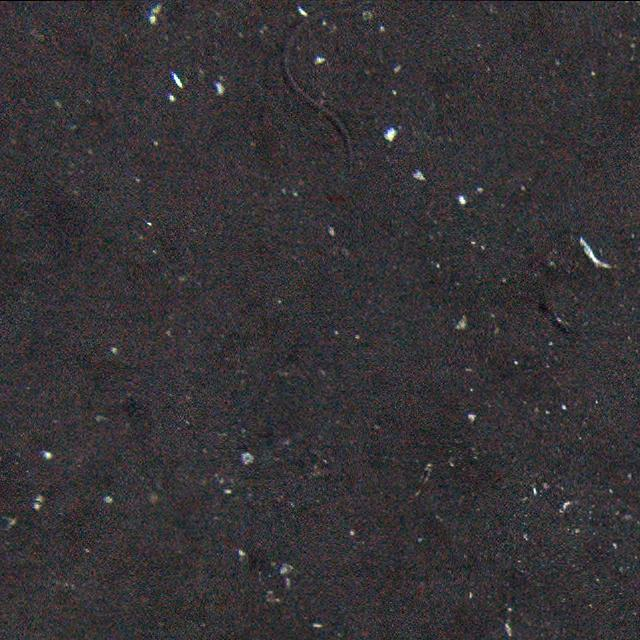eel: (281, 2, 370, 177)
